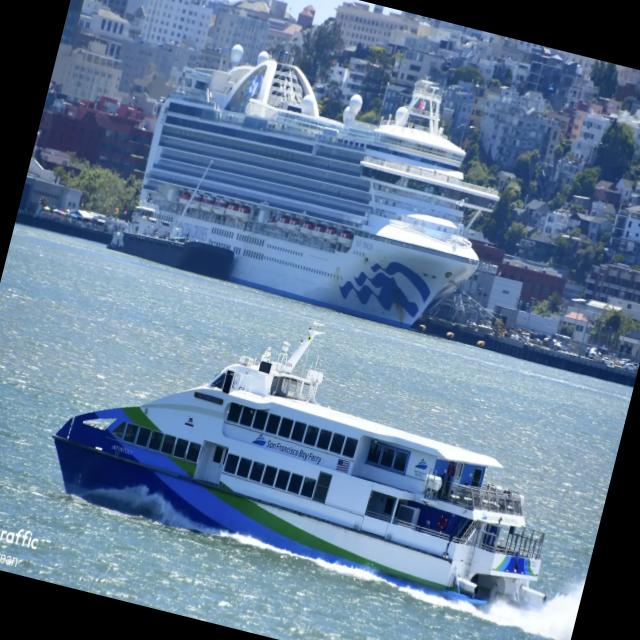Cruise: (131, 44, 498, 328)
Passenger: (52, 321, 545, 607)
